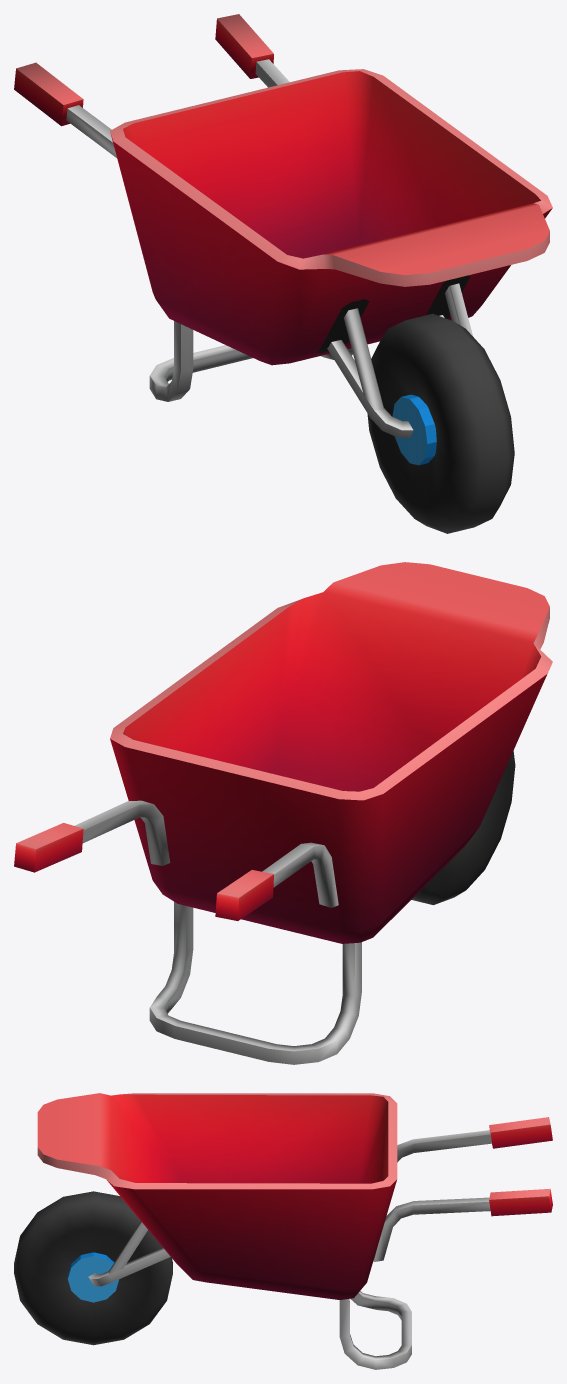
The model's file is Wheelbarow_1B.fbx.
3 renders of one model, top to bottom at view 1: azimuth 30°, elevation 25°; view 2: azimuth 150°, elevation 25°; view 3: azimuth 270°, elevation 25°, orthographic. The views are drawn at different scales.
Visible parts, largest first — view 1: Wheelbarow_1B, Wheelbarrow_1B_Wheel; view 2: Wheelbarow_1B, Wheelbarrow_1B_Wheel; view 3: Wheelbarow_1B, Wheelbarrow_1B_Wheel.
Part boxes in pixels (x1,y1,x2,y2): Wheelbarow_1B: [14, 14, 552, 437]; Wheelbarrow_1B_Wheel: [367, 313, 514, 533]; Wheelbarow_1B: [14, 562, 552, 1064]; Wheelbarrow_1B_Wheel: [411, 751, 515, 905]; Wheelbarow_1B: [37, 1093, 552, 1369]; Wheelbarrow_1B_Wheel: [14, 1191, 172, 1345].
Bounding box in the file's own units: 0.8474 × 0.869 × 2.01.
